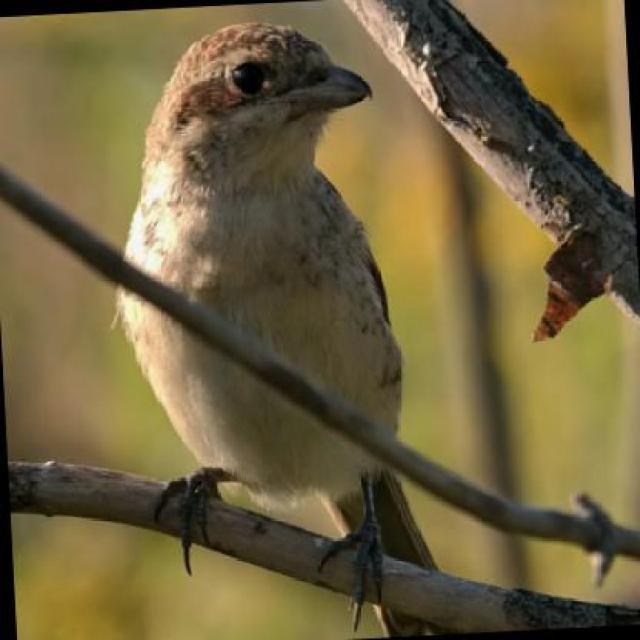Bird: (122, 20, 487, 615)
